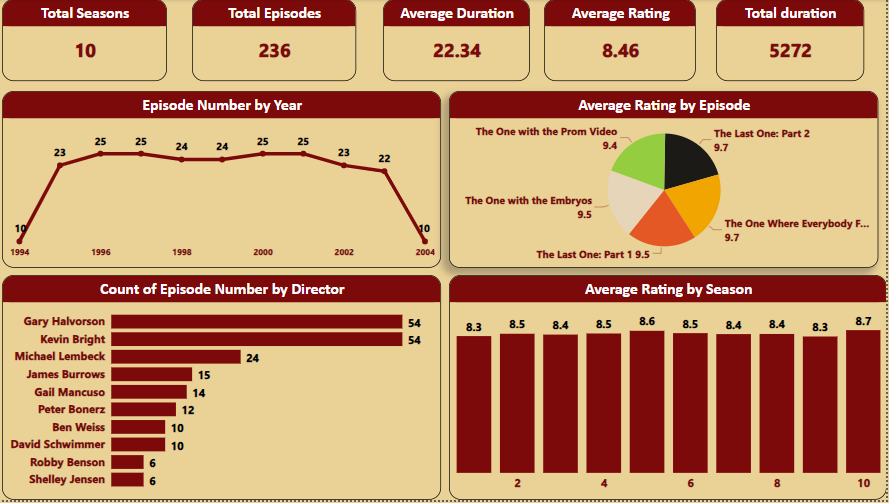

This screenshot's page, from the dashboard's own definition file:
{"tool":"powerbi","page":{"name":"Home","canvas":[1280,720],"ordinal":0},"visuals":[{"type":"card","title":"Average Duration","fields":{"Values":["DAX.Average Duration"]},"box":[556.2,0,211.3,117.8],"z":0},{"type":"card","title":"Total Episodes","fields":{"Values":["DAX.Total Episodes"]},"box":[281.7,0,235.7,117.8],"z":1000},{"type":"card","title":"Average Rating","fields":{"Values":["DAX.Average Rating"]},"box":[787.5,0,218.4,117.8],"z":2000},{"type":"card","title":"Total Seasons","fields":{"Values":["DAX.Total Seasons"]},"box":[8.6,0,237.1,117.8],"z":3000},{"type":"lineChart","title":"Episode Number by Year","fields":{"Y":["Friends Episodes.Episode Number"],"Category":["Friends Episodes.Year of produced"]},"box":[8.6,132.2,630.9,254.4],"z":4000},{"type":"barChart","fields":{"Category":["Friends Episodes.Director"],"Y":["Friends Episodes.Episode Number"]},"box":[8.6,396.6,630.9,323.4],"z":5000},{"type":"columnChart","fields":{"Category":["Friends Episodes.Season"],"Y":["DAX.Average Rating"]},"box":[651,396.6,629.5,323.4],"z":6000},{"type":"pieChart","title":"Average Rating by Episode ","fields":{"Y":["DAX.Average Rating"],"Category":["Friends Episodes.Episode Title"]},"box":[651,132.2,616.5,254.4],"z":7000},{"type":"card","title":"Total duration","fields":{"Values":["Friends Episodes.Duration"]},"box":[1034.7,0,211.3,117.8],"z":8000}]}

Visuals, with their boxes in screenshot pixels (x1, y1, x2, y2), scaled from the page's 1280x720 canvas onto the 889x503 screenshot:
"Average Duration" card: (386, 0, 533, 82)
"Total Episodes" card: (196, 0, 359, 82)
"Average Rating" card: (547, 0, 699, 82)
"Total Seasons" card: (6, 0, 171, 82)
"Episode Number by Year" lineChart: (6, 92, 444, 270)
barChart - Friends Episodes.Director x Friends Episodes.Episode Number: (6, 277, 444, 502)
columnChart - Friends Episodes.Season x DAX.Average Rating: (452, 277, 888, 502)
"Average Rating by Episode " pieChart: (452, 92, 880, 270)
"Total duration" card: (719, 0, 865, 82)
